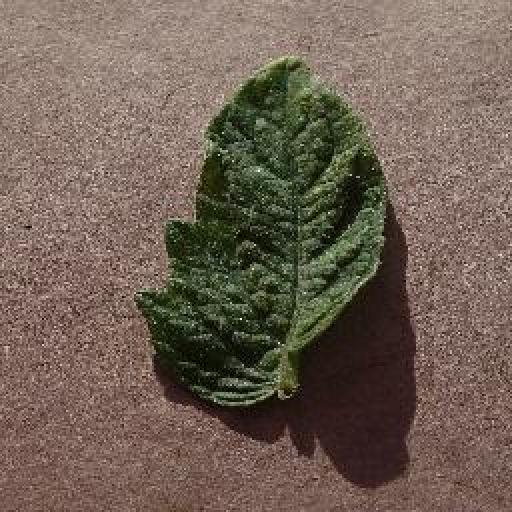Spider Mites: (139, 52, 383, 403)
